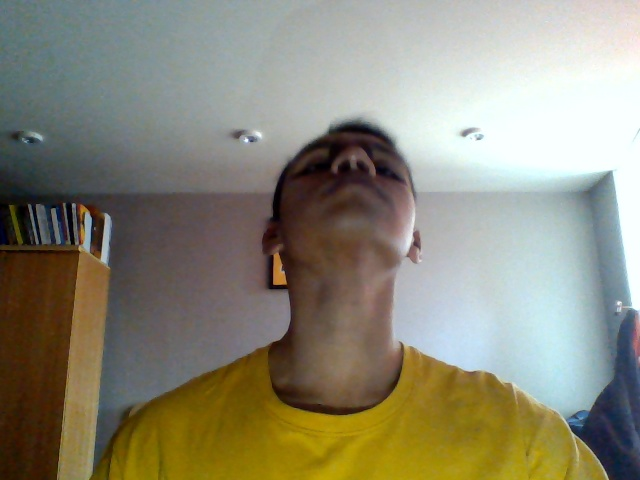no_mask: (259, 154, 425, 268)
